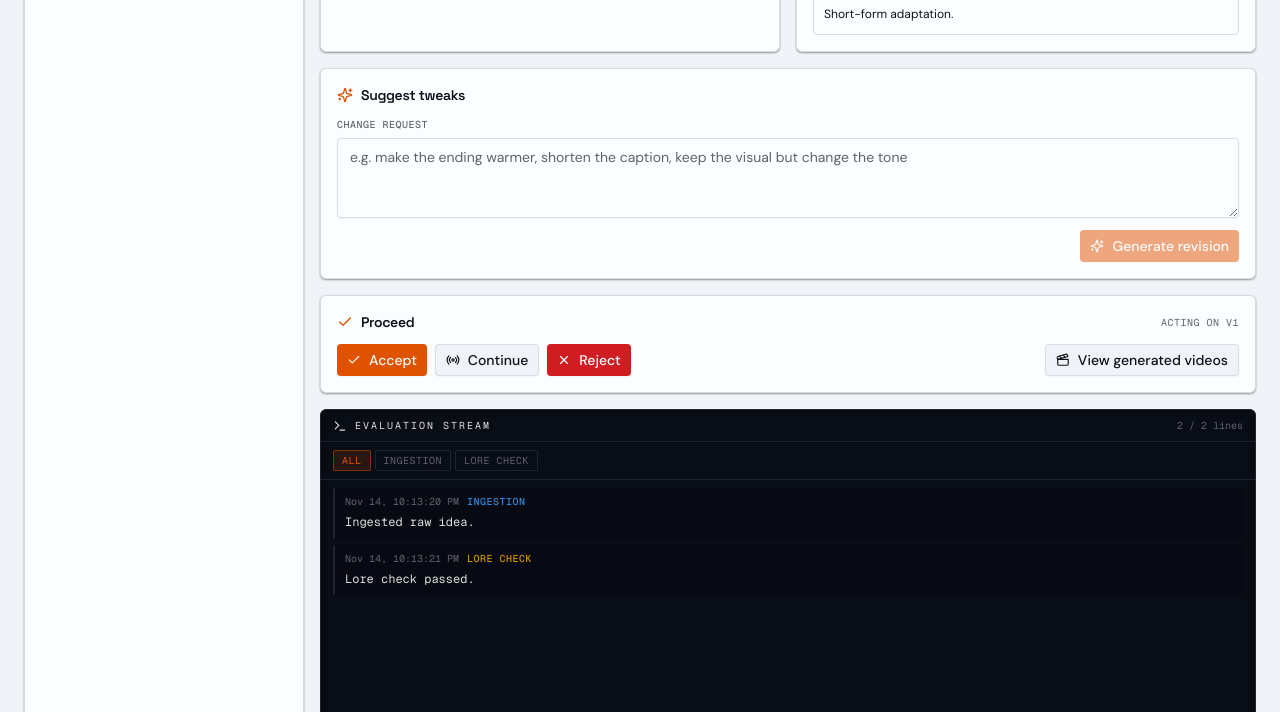
Scenario: SimulationPage › shows an outcome panel with the decision status after accepting
This screenshot has width=1280, height=712.
(page scrolled)
Step 1. Click the button with test id "simulation.accept_button" → [382, 360], box top-left (337, 344), bottom-right (427, 376)
(page scrolled)
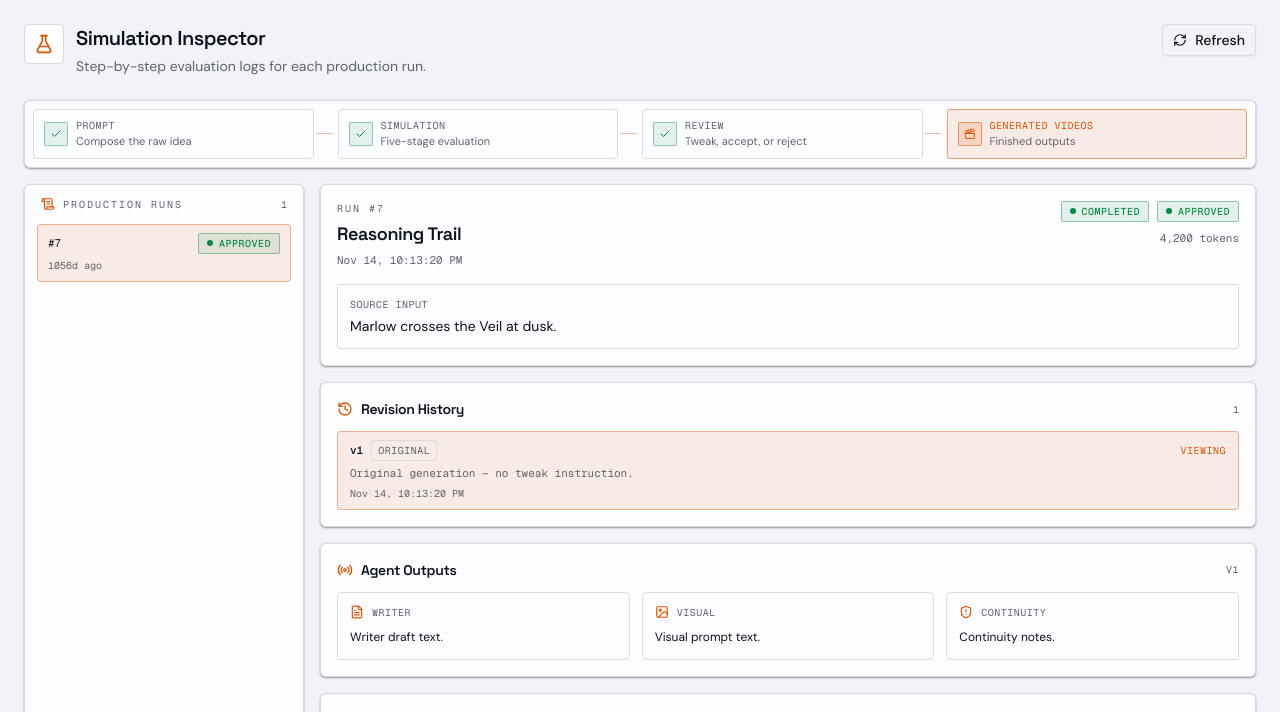
expect the text "Approved" is shown: met, box top-left (198, 232), bottom-right (280, 254)
